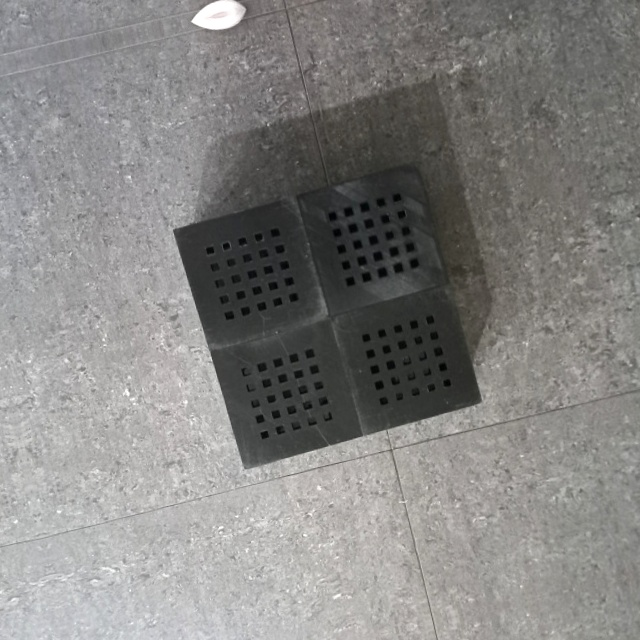pallet: (161, 155, 494, 478)
